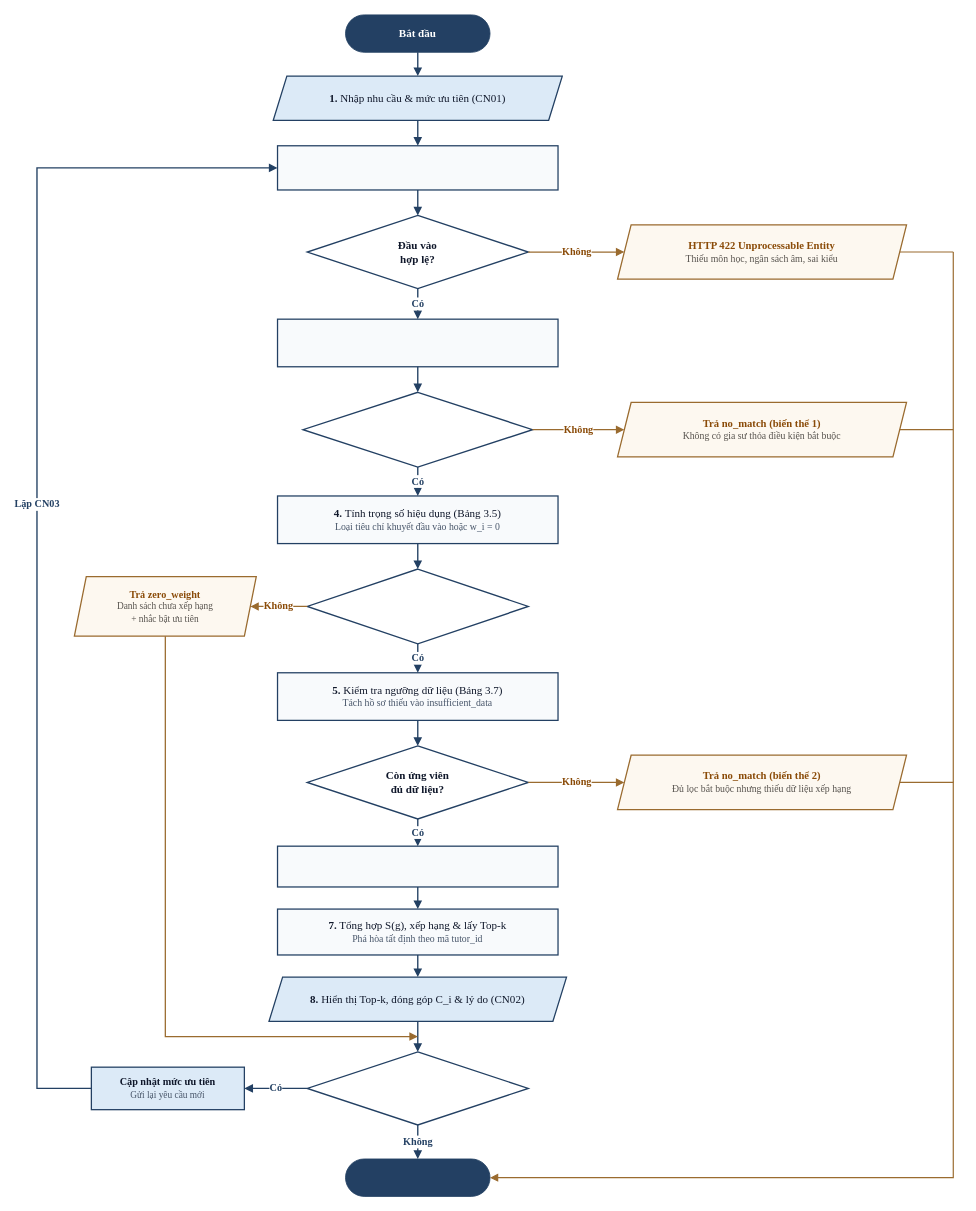
Some shapes in this 976 by 1211 pixel diagram are drawn without their labels. The centre of each missing label's shape, as x and y in pixels:
"2. Kiểm tra, chuẩn hóa đầu vào ( SearchRequest )" belongs at [417,167].
"3. Đọc 16 hồ sơ & lọc bắt buộc (Bảng 3.2) Môn học, hình thức, giao khung giờ" belongs at [417,342].
"6. Tính điểm thành phần s_i (Bảng 3.6)" belongs at [417,866].
"Còn ứng viên qua lọc bắt buộc?" belongs at [417,429].
"Kết thúc" belongs at [417,1177].
"Tổng trọng số Σw_i > 0?" belongs at [417,606].
"Điều chỉnh mức ưu tiên (CN03)?" belongs at [417,1088].
